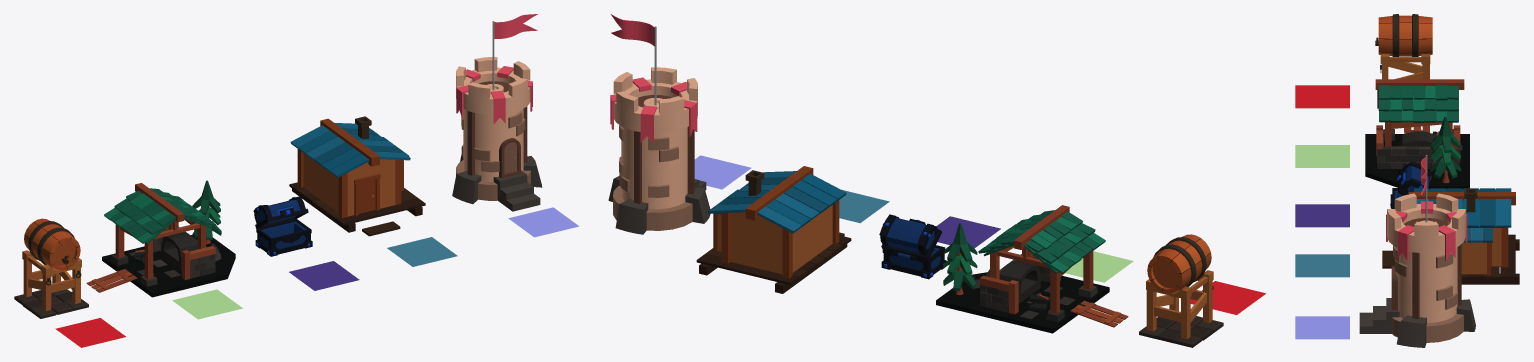
The model's file is Coloring.fbx.
3 renders of one model, left to right at view 1: azimuth 30°, elevation 25°; view 2: azimuth 150°, elevation 25°; view 3: azimuth 270°, elevation 25°, orthographic. The views are drawn at different scales.
Parts seen in each view (by area): view 1: Box015, Cylinder003, Cylinder004, Box190, Box242, Box134, Box218, Plane005, Plane001, Plane004, Plane002, Plane003 (+12 smaller); view 2: Cylinder003, Box015, Box190, Cylinder004, Box242, Box134, Box218, Object006, Plane005, Plane001, Plane003, Box252 (+11 smaller); view 3: Cylinder003, Box015, Cylinder004, Box242, Plane001, Plane003, Plane004, Plane005, Plane002, Box191, Box021, Box209 (+27 smaller).
Boxes of the visible parts, <box> form: Box015: <box>14,218,88,318</box>; Cylinder003: <box>452,109,542,204</box>; Cylinder004: <box>456,57,530,114</box>; Box190: <box>303,153,395,216</box>; Box242: <box>102,234,235,297</box>; Box134: <box>104,190,175,243</box>; Box218: <box>290,125,368,177</box>; Plane005: <box>508,207,579,237</box>; Plane001: <box>55,318,125,347</box>; Plane004: <box>387,237,457,266</box>; Plane002: <box>172,289,242,319</box>; Plane003: <box>289,261,359,290</box>; Cylinder003: <box>608,125,710,234</box>; Box015: <box>1139,234,1223,347</box>; Box190: <box>730,205,832,274</box>; Cylinder004: <box>613,67,697,133</box>; Box242: <box>936,272,1109,333</box>; Box134: <box>1024,211,1105,273</box>; Box218: <box>757,173,846,233</box>; Object006: <box>879,214,938,255</box>; Plane005: <box>694,155,751,189</box>; Plane001: <box>1190,281,1265,314</box>; Plane003: <box>936,216,1000,248</box>; Box252: <box>999,260,1040,303</box>; Cylinder003: <box>1392,245,1475,347</box>; Box015: <box>1375,14,1432,108</box>; Cylinder004: <box>1387,193,1465,253</box>; Box242: <box>1365,134,1469,189</box>; Plane001: <box>1295,85,1349,108</box>; Plane003: <box>1295,204,1349,227</box>; Plane004: <box>1295,254,1349,277</box>; Plane005: <box>1295,316,1349,339</box>; Plane002: <box>1295,145,1349,167</box>; Box191: <box>1461,228,1486,274</box>; Box021: <box>1375,79,1464,89</box>; Box209: <box>1408,192,1515,205</box>.
Size of the model in its own units: 286 by 87.04 by 103.
